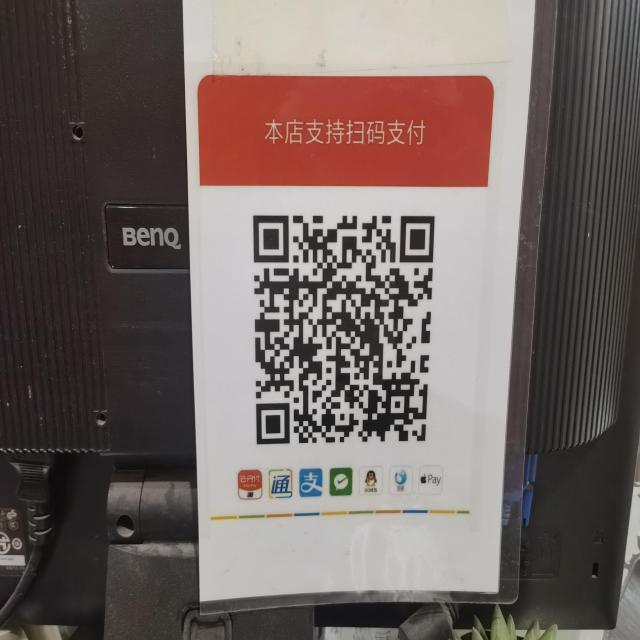qr_code: (253, 215, 435, 445)
